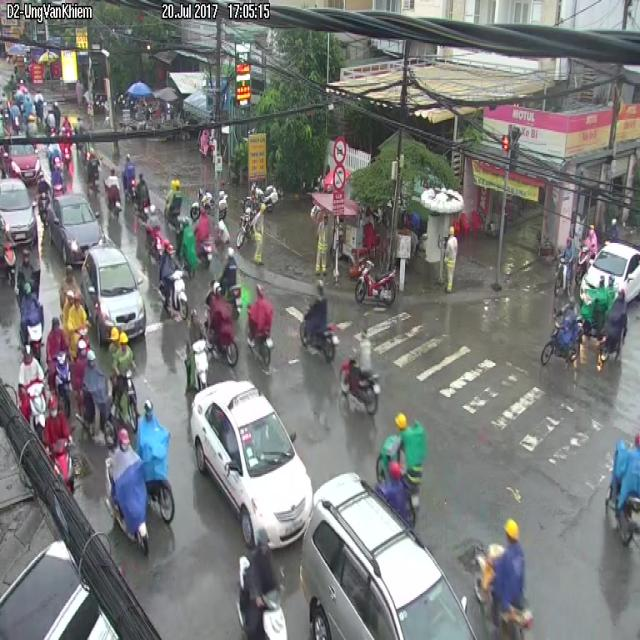car: (18, 350, 43, 390)
traffic-light: (189, 381, 312, 548), (81, 244, 145, 344), (54, 193, 102, 247), (0, 178, 38, 244)
